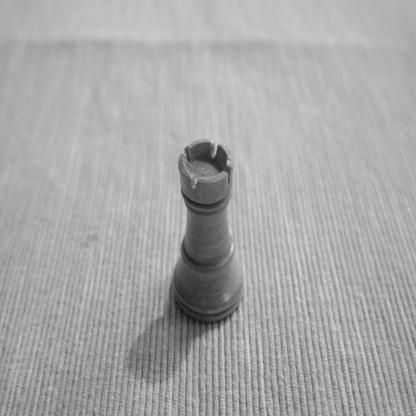white-rook: (172, 138, 245, 324)
